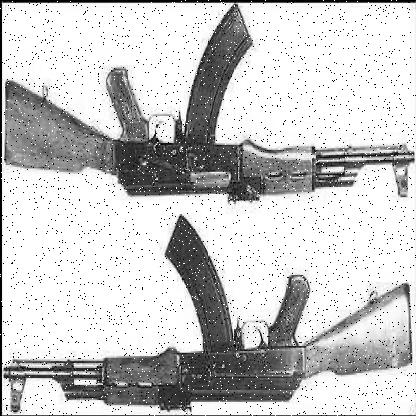rifle: (1, 1, 413, 232), (1, 242, 408, 416)
